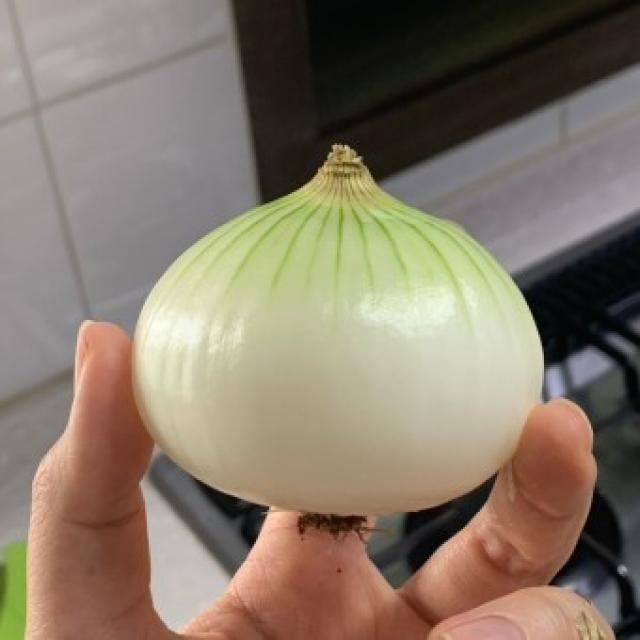onion: (111, 134, 583, 554)
